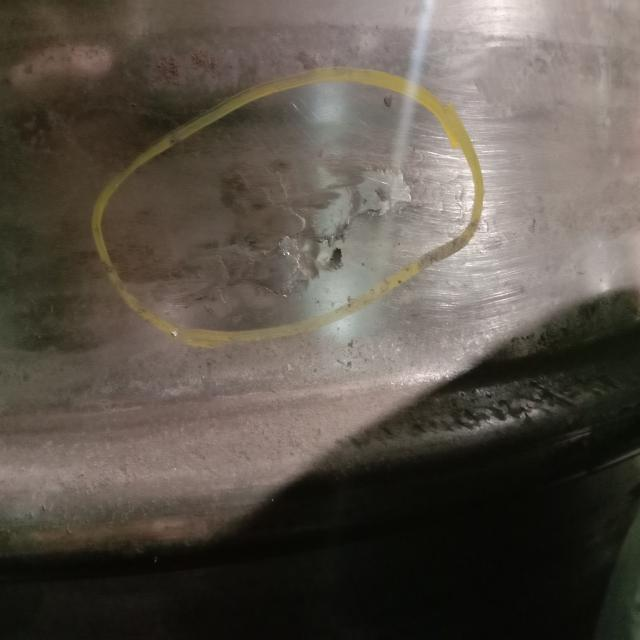flat: (206, 154, 367, 296)
